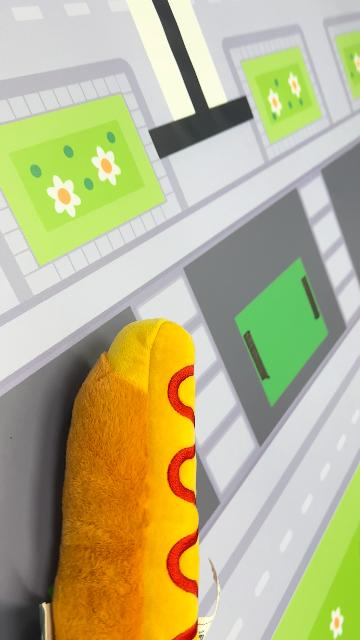hotdog: (50, 317, 202, 638)
